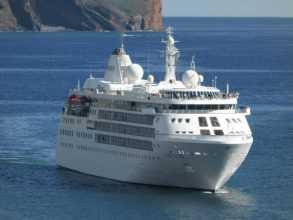youlun: (57, 35, 250, 193)
